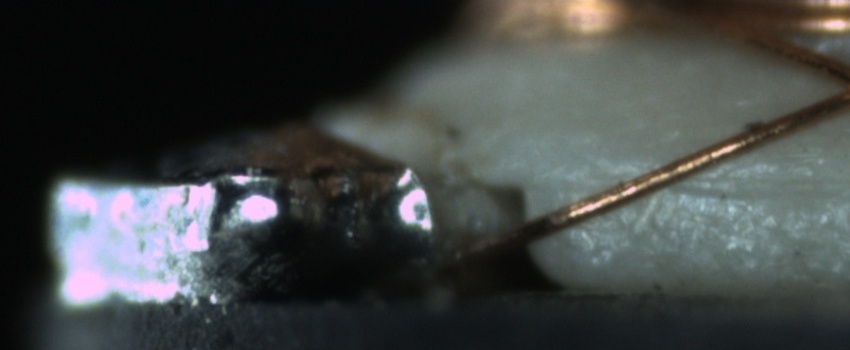DL: (572, 149, 845, 216)
